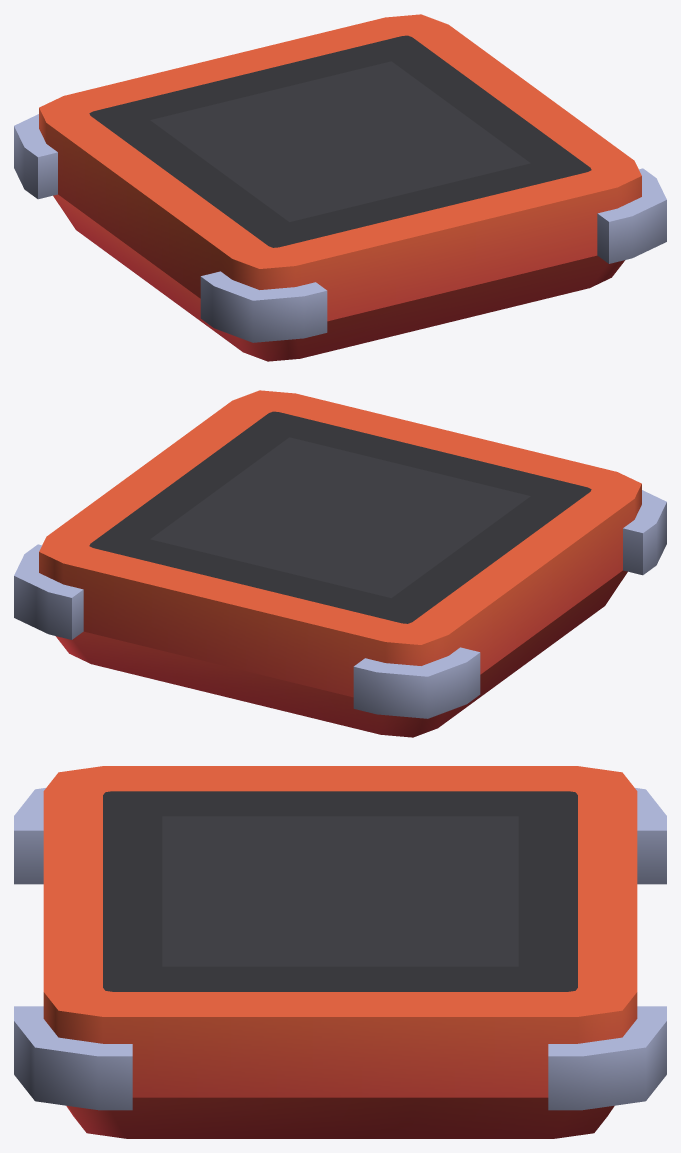
The model's file is PlatformFalling.fbx.
The picture shows the model from 3 angles, top to bottom: view 1: azimuth 30°, elevation 25°; view 2: azimuth 150°, elevation 25°; view 3: azimuth 270°, elevation 25°; orthographic projection. The views are drawn at different scales.
Parts seen in each view (by area): view 1: platform-falling; view 2: platform-falling; view 3: platform-falling.
Part boxes in pixels (x1,y1,x2,y2): platform-falling: [14, 14, 666, 361]; platform-falling: [14, 390, 666, 737]; platform-falling: [14, 766, 666, 1138].
Size of the model in its own units: 220 by 50 by 220.
